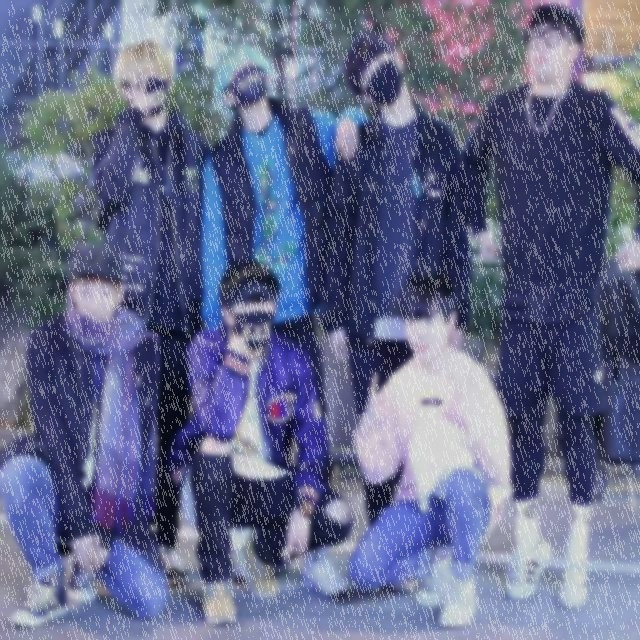pessoa: (453, 1, 639, 610), (198, 43, 372, 600), (318, 29, 475, 594), (0, 237, 173, 632), (338, 264, 520, 632), (90, 34, 208, 588), (182, 255, 356, 626)
